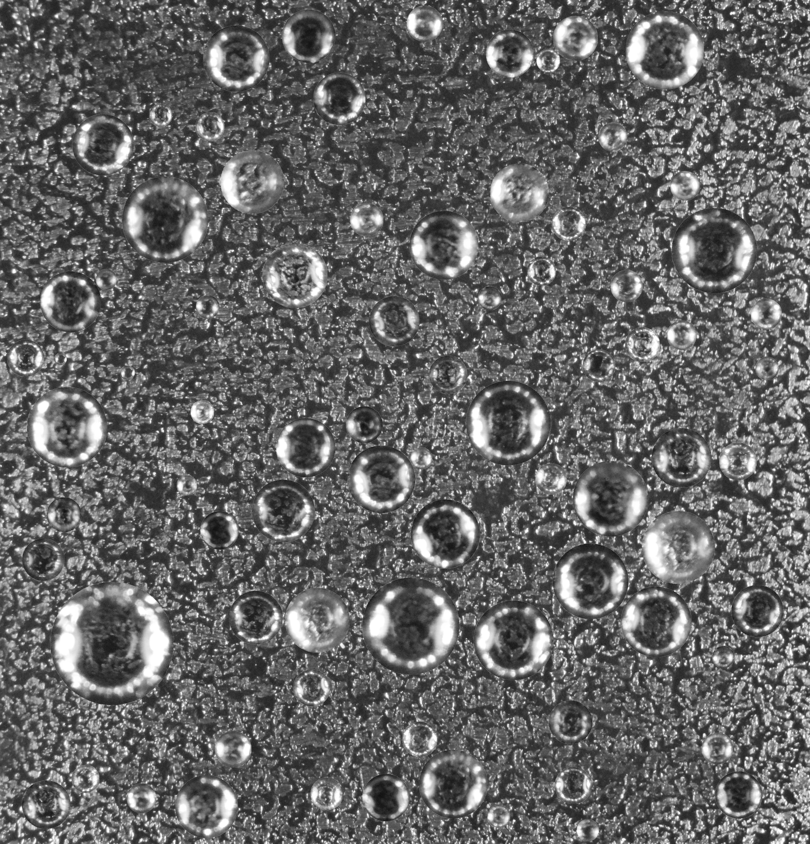Bubble: (50, 582, 173, 705), (362, 577, 459, 674), (122, 176, 208, 262), (671, 207, 757, 293), (466, 380, 550, 465), (26, 387, 107, 467), (473, 600, 553, 680), (625, 11, 704, 89), (552, 543, 628, 619), (573, 461, 648, 536), (642, 511, 714, 583), (621, 586, 691, 657), (410, 499, 479, 568), (409, 210, 478, 279), (419, 749, 487, 818), (347, 445, 415, 513), (203, 25, 269, 91), (262, 243, 327, 307), (285, 588, 349, 652), (220, 150, 283, 213), (175, 775, 237, 838), (252, 479, 314, 542), (72, 114, 133, 175), (40, 271, 100, 332), (651, 428, 711, 487), (276, 418, 335, 477), (490, 163, 548, 222), (229, 590, 282, 644), (282, 9, 335, 62), (313, 72, 365, 124), (731, 585, 783, 637), (369, 296, 419, 346), (21, 780, 70, 829), (486, 29, 533, 77), (362, 774, 409, 821), (715, 771, 762, 818), (553, 15, 597, 60), (548, 700, 592, 744), (22, 538, 64, 580), (200, 511, 238, 549), (429, 355, 467, 393), (719, 442, 756, 480), (293, 669, 330, 706), (554, 767, 591, 804), (345, 406, 382, 443), (7, 339, 44, 376), (214, 731, 251, 767), (406, 5, 442, 41), (402, 721, 437, 756), (46, 497, 81, 532), (625, 327, 659, 361), (552, 206, 585, 240), (350, 203, 383, 236), (310, 777, 343, 810), (582, 349, 615, 381), (701, 732, 733, 764), (610, 270, 642, 302), (535, 463, 566, 494), (751, 298, 781, 329), (126, 783, 156, 813), (527, 256, 556, 285), (195, 112, 224, 141), (670, 171, 699, 200), (598, 122, 627, 151), (667, 320, 696, 349), (71, 765, 99, 792), (536, 48, 560, 72), (195, 295, 219, 318), (190, 400, 214, 423), (755, 356, 778, 380), (478, 286, 501, 310), (149, 103, 172, 126), (487, 805, 510, 827), (712, 646, 734, 668), (410, 447, 432, 469), (576, 819, 598, 841), (95, 269, 116, 289), (176, 475, 196, 495), (120, 365, 134, 380), (54, 352, 66, 365)
